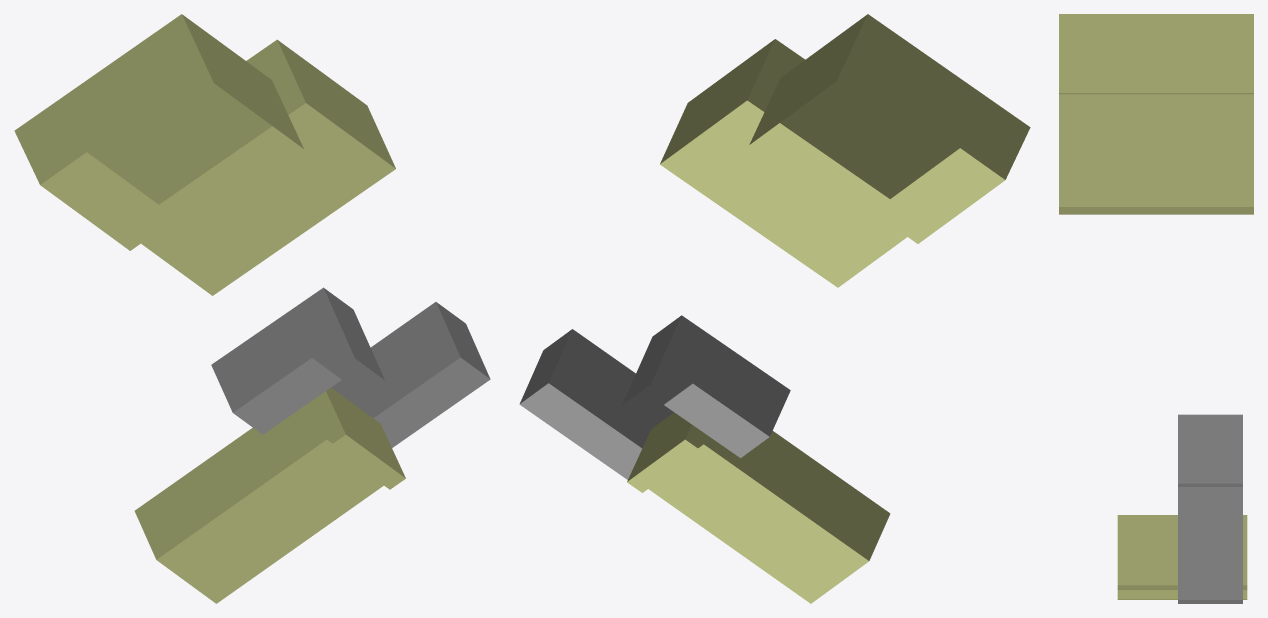
3 renders of one model, left to right at view 1: azimuth 30°, elevation 25°; view 2: azimuth 150°, elevation 25°; view 3: azimuth 270°, elevation 25°, orthographic. The views are drawn at different scales.
Visible parts, largest first — view 1: 0_1_0_0_0_1_2_2_1_1; view 2: 0_1_0_0_0_1_2_2_1_1; view 3: 0_1_0_0_0_1_2_2_1_1.
Part boxes in pixels (left/top/right/bottom): 0_1_0_0_0_1_2_2_1_1: left=14, top=14, right=490, bottom=603; 0_1_0_0_0_1_2_2_1_1: left=519, top=14, right=1030, bottom=603; 0_1_0_0_0_1_2_2_1_1: left=1059, top=14, right=1253, bottom=603.
Bounding box in the file's own units: 25.43 × 29.57 × 9.
